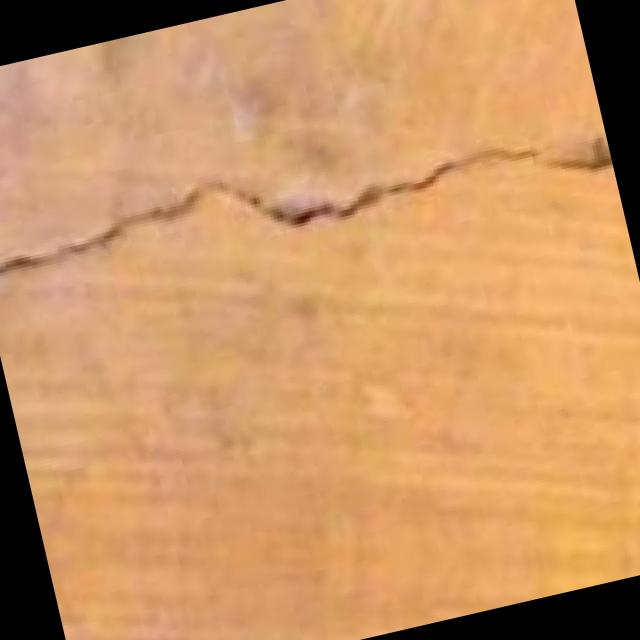crack: (0, 43, 640, 497)
